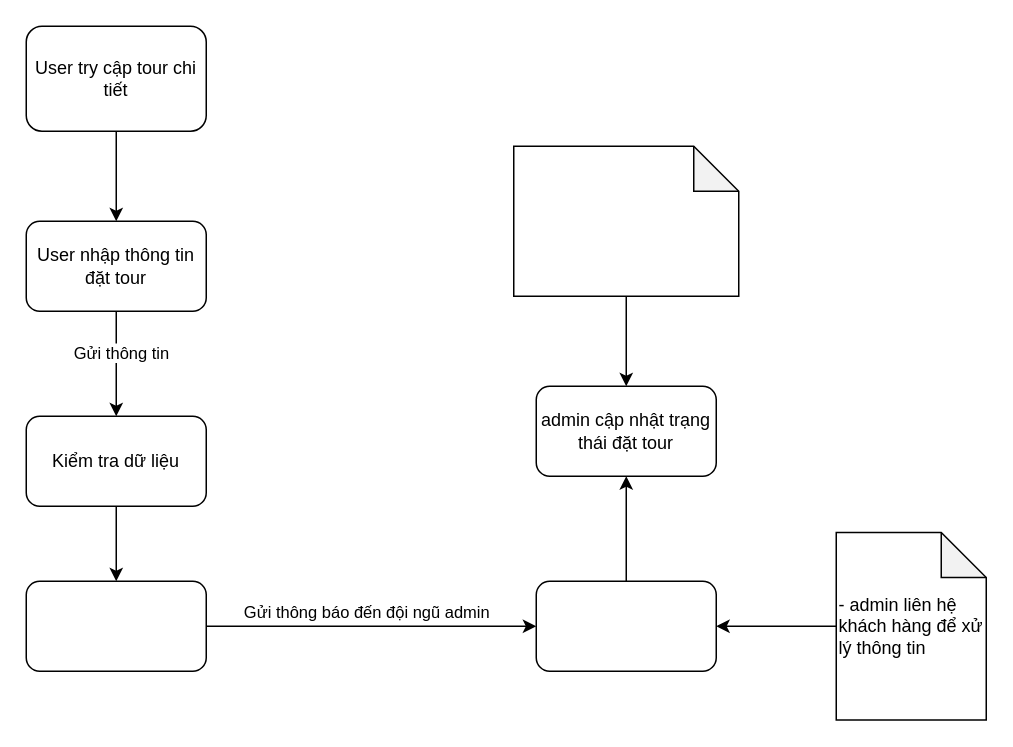
Image size: 1013x747. Some labels were removed from this diagram. Each missing label, with the centre of its shape:
- Nếu yêu cầu đặt tour đã được xử lý hoàn tất thì set status = 0: the point at 625,220
Admin kiểm tra và xử lý yêu cầu đặt tour thử công: the point at 625,625
Lưu thông tin đặt tour với status = 1: the point at 115,625
